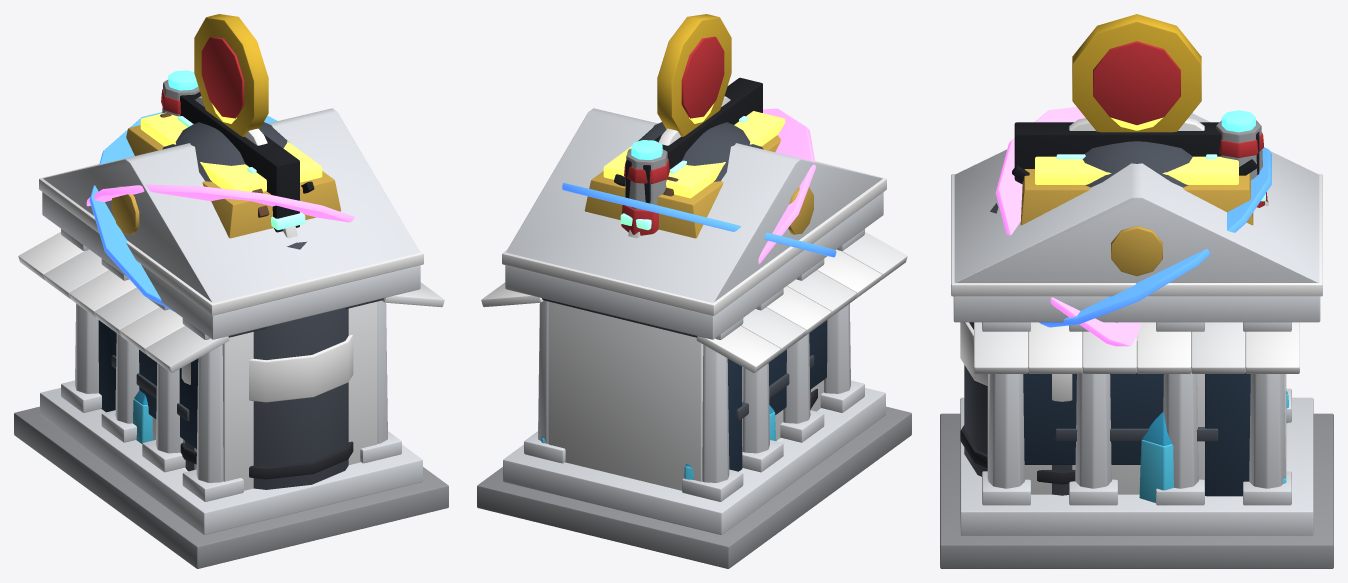
The model's file is business.glb.
3 views of the same model, side by side, from view 1: azimuth 30°, elevation 25°; view 2: azimuth 150°, elevation 25°; view 3: azimuth 270°, elevation 25° (orthographic). The views are drawn at different scales.
Visible parts, largest first — view 1: biz_bank, biz_store, biz_plant, biz_club, biz_casino, biz_gas, biz_gunshop; view 2: biz_bank, biz_store, biz_gas, biz_club, biz_casino, biz_plant, biz_gunshop; view 3: biz_bank, biz_store, biz_gas, biz_club, biz_plant, biz_casino, biz_gunshop.
Part boxes in pixels (bbox=[...]): biz_bank: bbox=[14, 104, 448, 568]; biz_store: bbox=[18, 84, 444, 490]; biz_plant: bbox=[133, 70, 353, 489]; biz_club: bbox=[86, 112, 354, 311]; biz_casino: bbox=[111, 112, 341, 421]; biz_gas: bbox=[194, 14, 268, 136]; biz_gunshop: bbox=[160, 96, 314, 238]; biz_bank: bbox=[477, 104, 911, 568]; biz_store: bbox=[481, 77, 907, 490]; biz_gas: bbox=[657, 14, 731, 136]; biz_club: bbox=[562, 108, 836, 263]; biz_casino: bbox=[584, 111, 814, 421]; biz_plant: bbox=[541, 140, 817, 479]; biz_gunshop: bbox=[614, 96, 730, 238]; biz_bank: bbox=[940, 113, 1333, 568]; biz_store: bbox=[974, 122, 1299, 496]; biz_gas: bbox=[1072, 14, 1201, 132]; biz_club: bbox=[995, 106, 1271, 346]; biz_plant: bbox=[960, 110, 1288, 502]; biz_casino: bbox=[1020, 156, 1253, 441]; biz_gunshop: bbox=[1012, 118, 1268, 206].
Size of the model in its own units: 2.51 by 3.95 by 2.9.
